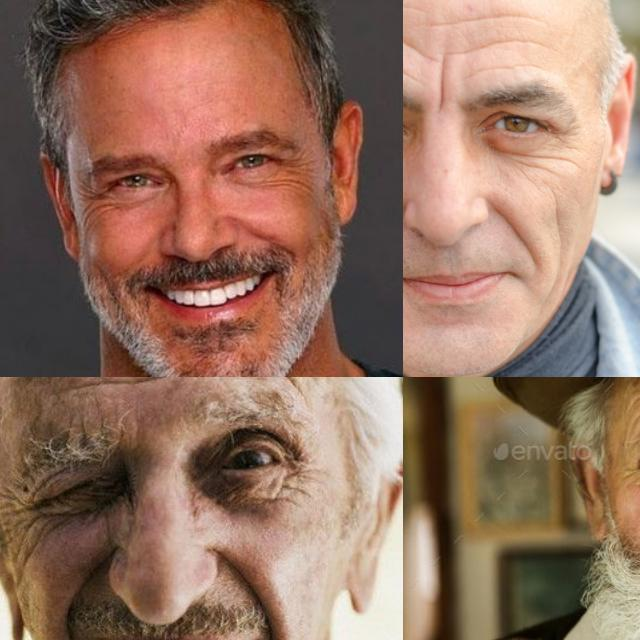crows_feet: (277, 452, 317, 506), (6, 492, 46, 538), (78, 177, 112, 213), (280, 156, 308, 188), (550, 120, 580, 144), (620, 459, 640, 491)
forehead: (459, 7, 531, 27), (458, 29, 516, 52), (482, 58, 532, 74), (267, 377, 304, 395), (428, 14, 454, 32), (403, 55, 416, 80)
frown_line: (432, 60, 451, 106)
gummy_smile: (219, 550, 271, 612), (68, 554, 109, 598), (496, 204, 530, 252)
masseter: (550, 198, 566, 246)
